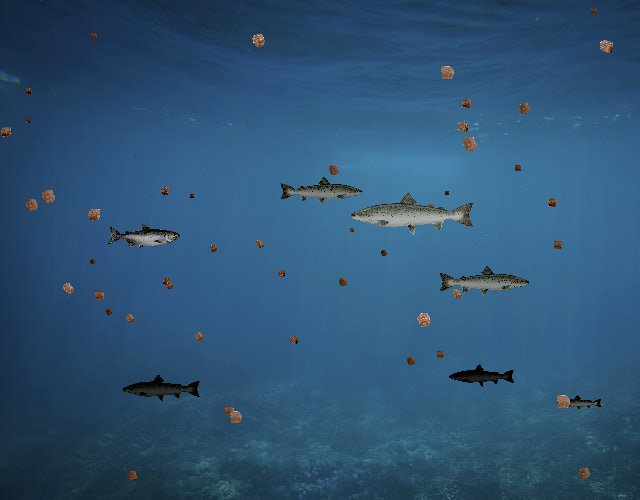Fish: (348, 190, 477, 236), (438, 264, 532, 298), (278, 175, 364, 206), (122, 373, 203, 403), (107, 224, 180, 250), (448, 364, 516, 388), (557, 394, 604, 411)
Pellet: (244, 27, 272, 55), (56, 276, 81, 301), (572, 462, 596, 486), (21, 115, 33, 127)
